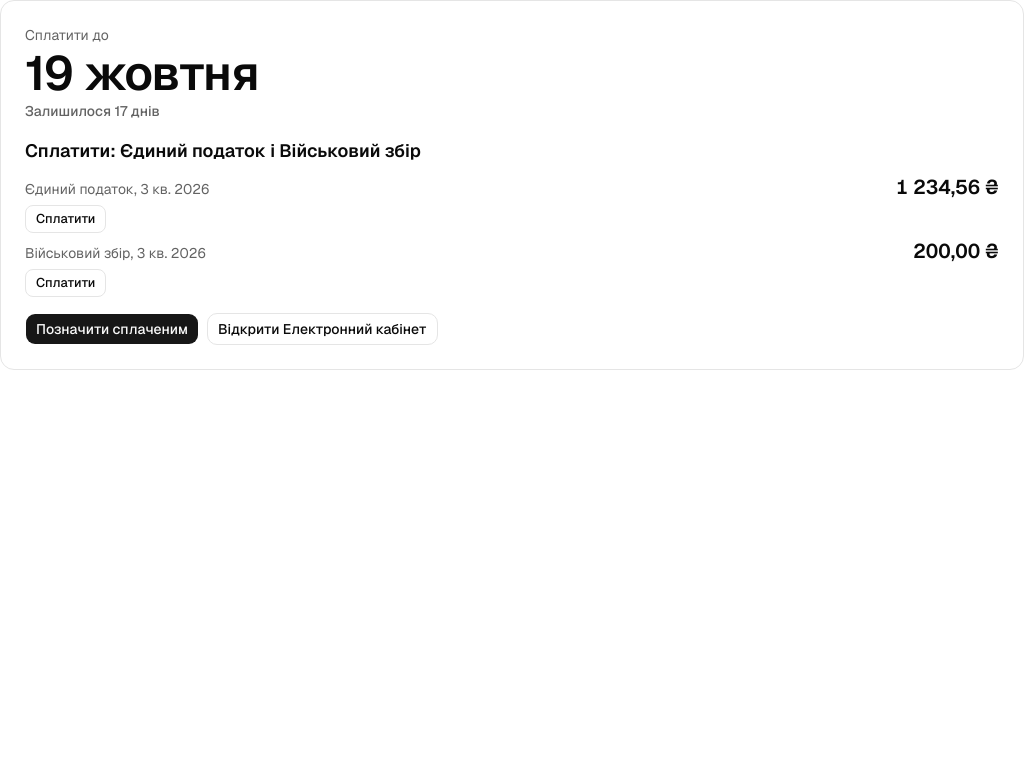
Test: HeroCard mark paid › names what was saved and what failed, and re-sends only what failed
Click the button "Позначити сплаченим". click: (112, 329)
box: [25,313,199,345]
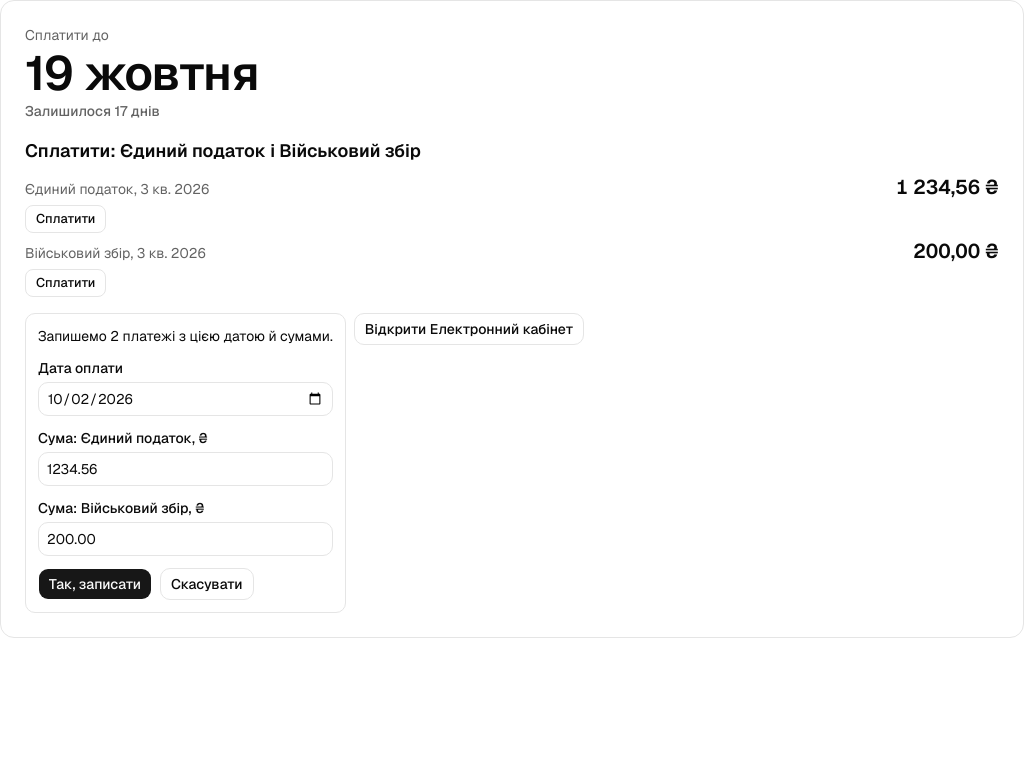
Click the button "Так, записати". click: (95, 584)
box: [38,568,152,600]
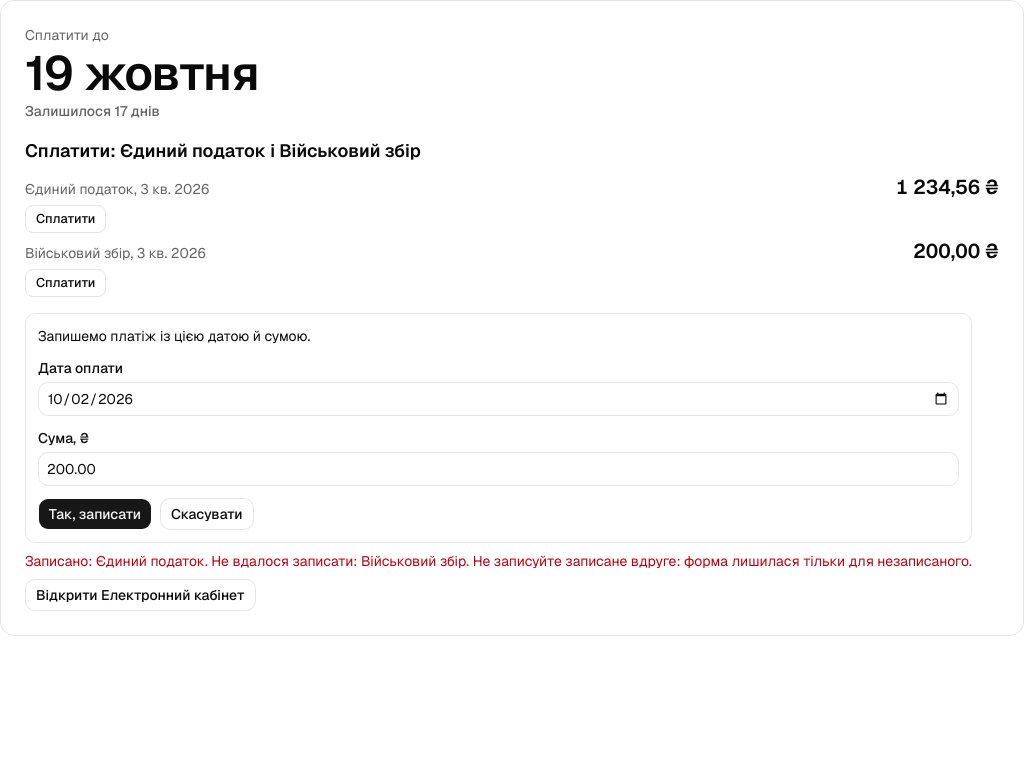
Now the field labelled "Сума, ₴" holds "200.00", box [38,452,959,486]
Now the message shows "Записано: Єдиний податок. Не вдалося записати: Військовий збір.", box [25,552,972,570]
Now the label labelled "Сума: Єдиний податок, ₴" is gone
Click the button "Так, записати". click: (95, 514)
box: [38,498,152,530]
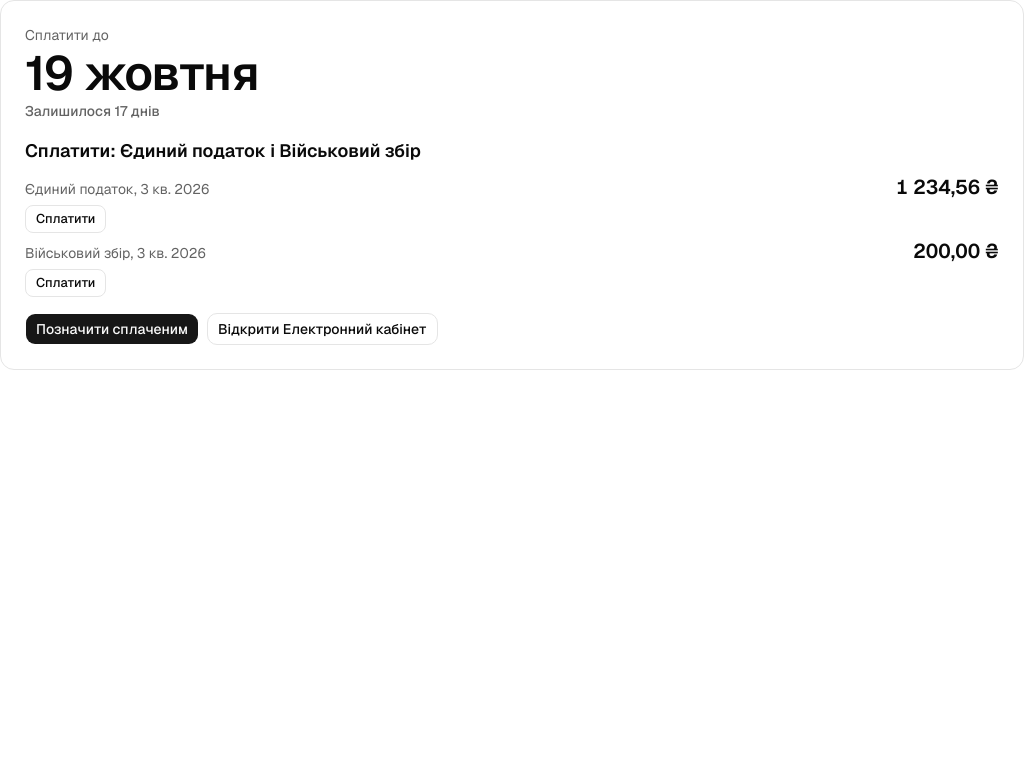
Now the message is gone
Now the button "Позначити сплаченим" is shown, box [25,313,199,345]
